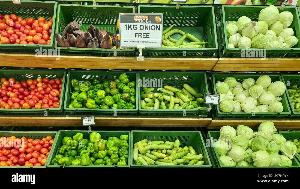bell_pepper: (66, 69, 133, 108), (55, 131, 129, 165)
tomato: (0, 70, 68, 109), (0, 0, 56, 46), (0, 133, 52, 167)
zucchini: (131, 126, 207, 164), (138, 69, 208, 110), (146, 11, 214, 45)
